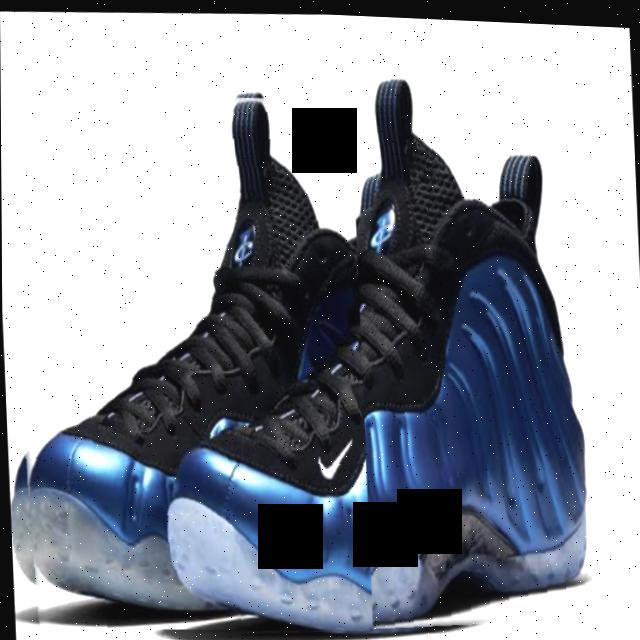shoe: (129, 53, 598, 640), (0, 81, 372, 640)
